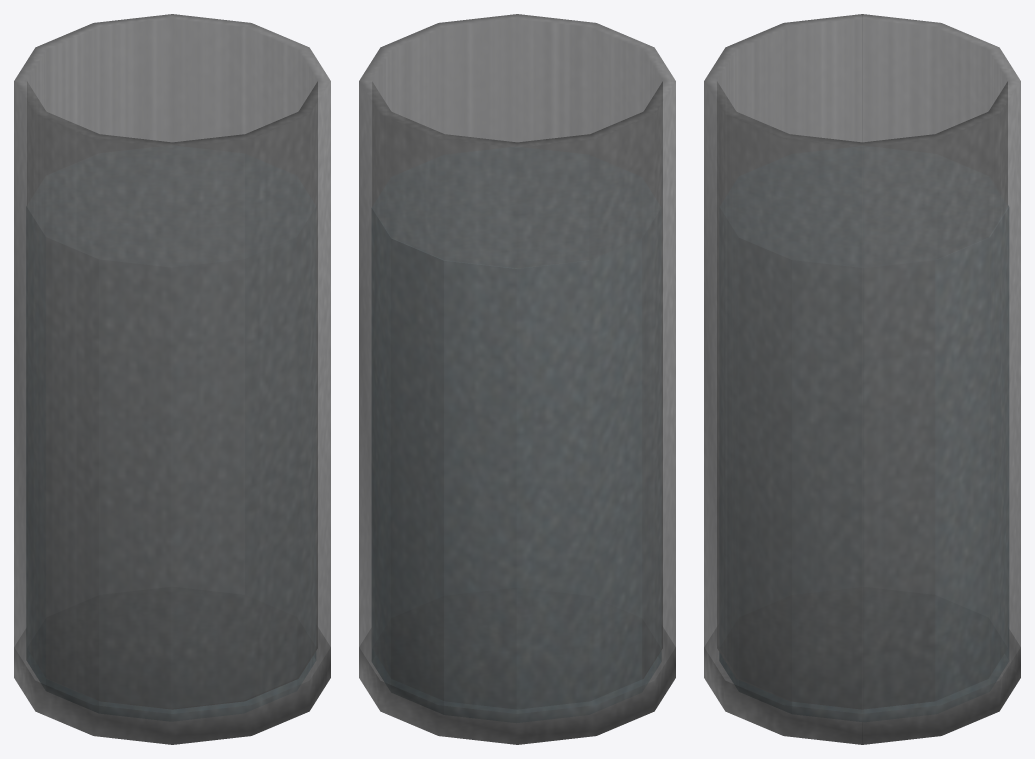
Rendered from glass_of_water_02.obj.
3 renders of one model, left to right at view 1: azimuth 30°, elevation 25°; view 2: azimuth 150°, elevation 25°; view 3: azimuth 270°, elevation 25°, orthographic.
Parts seen in each view (by area): view 1: glass_of_water.02; view 2: glass_of_water.02; view 3: glass_of_water.02.
Boxes of the visible parts, x1,y1,x2,y2 form: glass_of_water.02: (14, 14, 330, 744); glass_of_water.02: (359, 14, 675, 744); glass_of_water.02: (704, 14, 1020, 744).
Size of the model in its own units: 0.0989 by 0.2058 by 0.0989.
